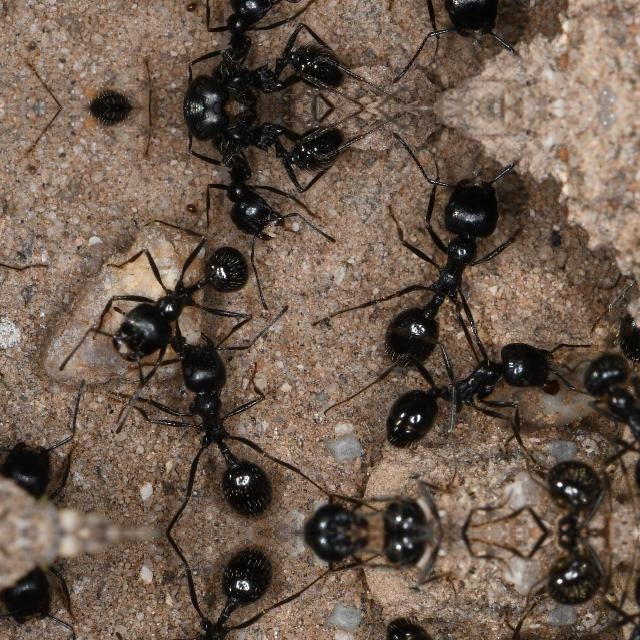Messor: (364, 158, 518, 366), (91, 232, 252, 378), (381, 329, 547, 455), (173, 331, 277, 517), (188, 107, 368, 199), (188, 15, 368, 107), (210, 110, 290, 246), (573, 342, 639, 492), (173, 548, 277, 640), (364, 0, 518, 56), (209, 0, 290, 103), (518, 532, 618, 614), (518, 452, 618, 532), (381, 610, 547, 640), (573, 573, 639, 640)
